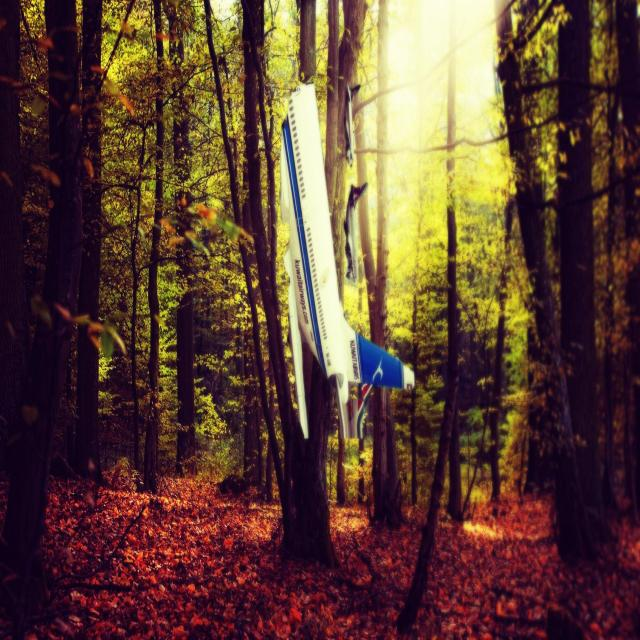airplane: (279, 81, 415, 440)
